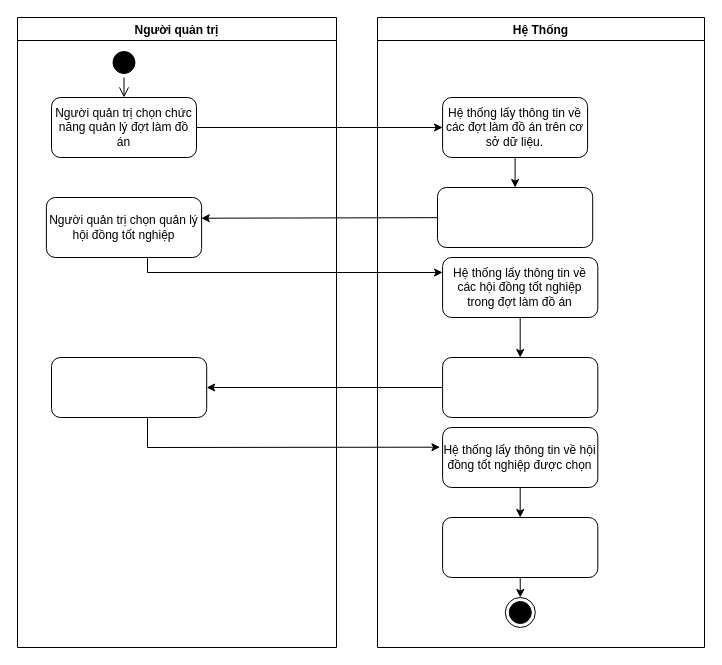
This 722x665 diagram has some shape labels left out. Here are the shapes that lost their labels. From the top down, the centre of each, then its label:
At (x=514, y=217): "Hệ thống hiển thị các đợt làm đồ án lên giao diện quản lý đợt làm đồ án.".
At (x=128, y=387): "Người quản trị chọn hội đồng cần xem và ấn xem".
At (x=520, y=387): "Hệ thống hiển thị các thông tin về hội đồng tốt nghiệp lên giao diện.".
At (x=520, y=547): "Hệ thống hiển thị các thông tin về hội đồng lên giao diện.".
